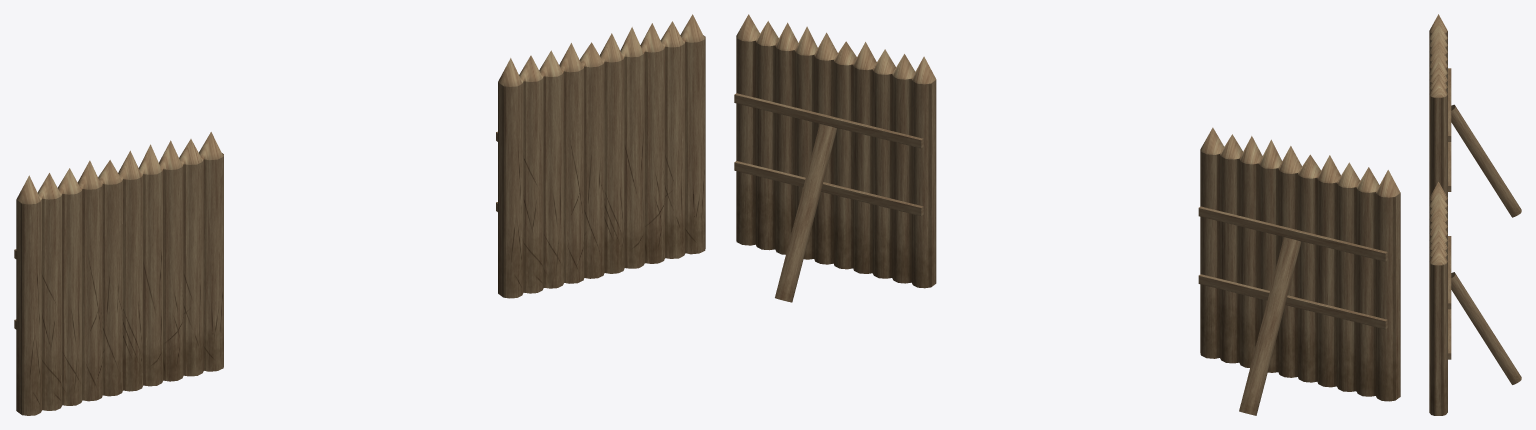
The model's file is BgMD_Akimoto_Fence_1.fbx.
3 renders of one model, left to right at view 1: azimuth 30°, elevation 25°; view 2: azimuth 150°, elevation 25°; view 3: azimuth 270°, elevation 25°, orthographic. The views are drawn at different scales.
Parts seen in each view (by area): view 1: BgMD_Akimoto_Fence_1_02, BgMD_Akimoto_Fence_1_01; view 2: BgMD_Akimoto_Fence_1_01, BgMD_Akimoto_Fence_1_02; view 3: BgMD_Akimoto_Fence_1_02, BgMD_Akimoto_Fence_1_01.
Boxes of the visible parts, x1,y1,x2,y2 form: BgMD_Akimoto_Fence_1_02: [496, 14, 705, 298]; BgMD_Akimoto_Fence_1_01: [14, 132, 223, 415]; BgMD_Akimoto_Fence_1_01: [1198, 127, 1400, 415]; BgMD_Akimoto_Fence_1_02: [734, 14, 936, 302]; BgMD_Akimoto_Fence_1_02: [1429, 182, 1521, 415]; BgMD_Akimoto_Fence_1_01: [1429, 14, 1521, 217].
Size of the model in its own units: 1691 by 569 by 278.
